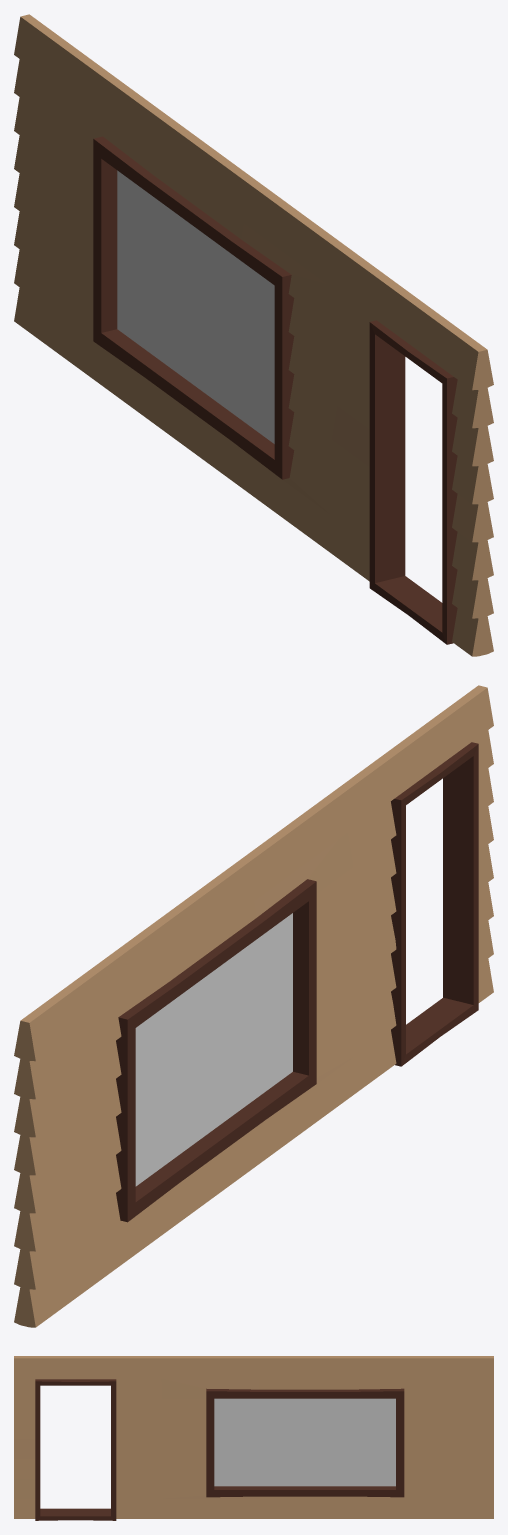
The model's file is Door and Window A.glb.
3 renders of one model, top to bottom at view 1: azimuth 30°, elevation 25°; view 2: azimuth 150°, elevation 25°; view 3: azimuth 270°, elevation 25°, orthographic. The views are drawn at different scales.
Parts seen in each view (by area): view 1: Door and Window A; view 2: Door and Window A; view 3: Door and Window A.
Part boxes in pixels (x1,y1,x2,y2): Door and Window A: [14, 14, 493, 656]; Door and Window A: [14, 685, 493, 1327]; Door and Window A: [14, 1356, 493, 1520].
Bounding box in the file's own units: 25.95 × 220 × 600.
